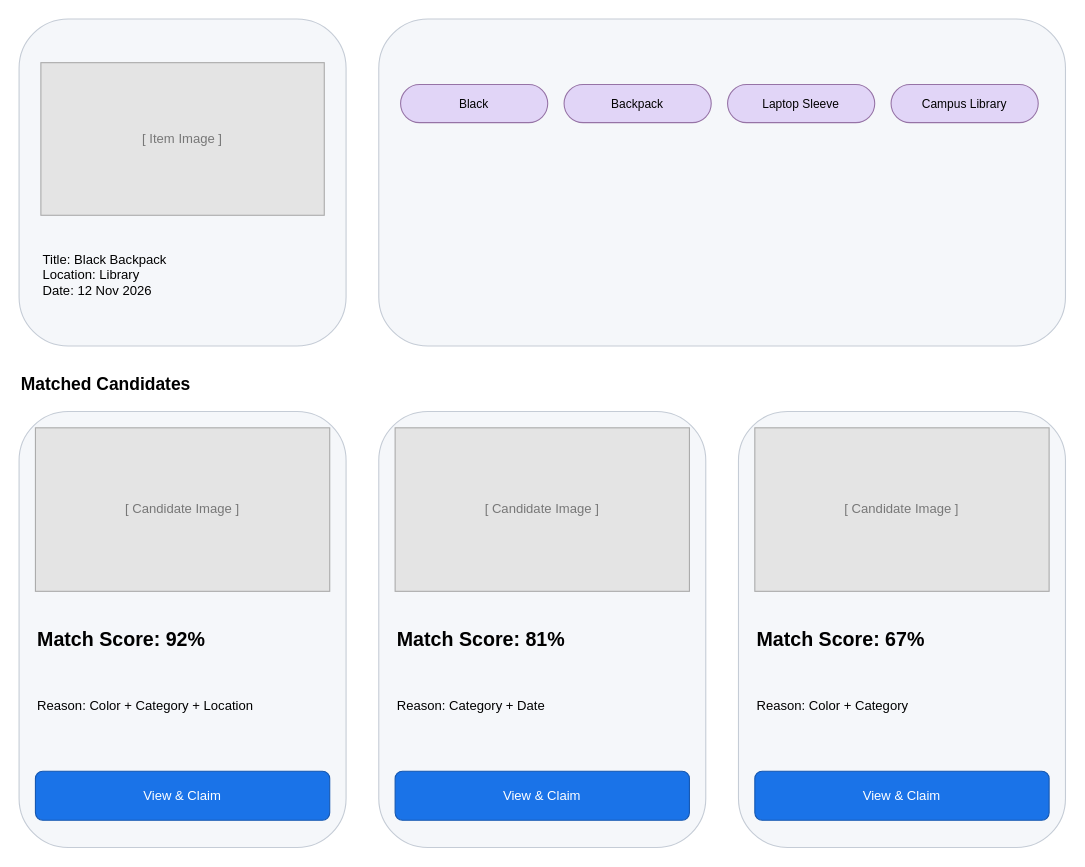
Some shapes in this 1085 by 867 pixel diagram are drawn without their labels. Each missing label, with the box of its shape:
AI Extracted Tags: (378, 18, 1065, 346)
Uploaded / Selected Item: (18, 18, 346, 346)
